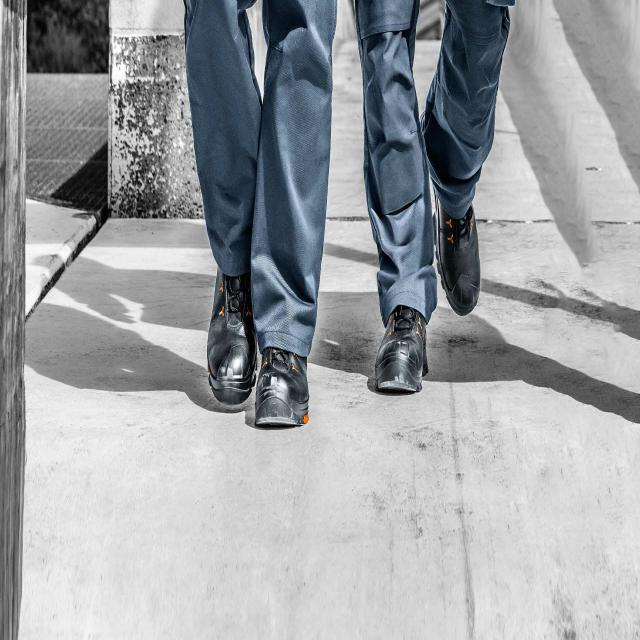shoes: (423, 162, 491, 319), (197, 254, 257, 411), (247, 333, 319, 454), (368, 288, 440, 405)
